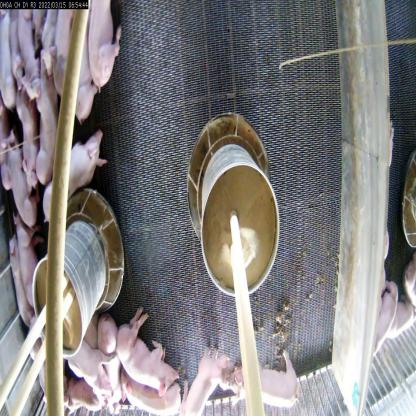Pig: (35, 126, 109, 214), (123, 312, 175, 392), (235, 356, 300, 414), (83, 0, 114, 100), (185, 350, 225, 416), (120, 378, 182, 416)
